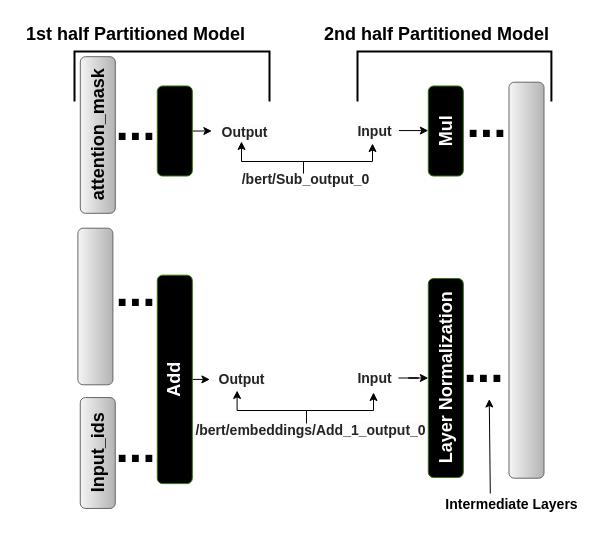
The diagram is 600 pixels wide and 536 high, and some of its shapes have lost their labels. Here are the shapes that lost their labels. From the top down, the box of each, then its label:
(156, 85, 192, 176): Sub
(508, 81, 544, 478): Logits
(77, 227, 113, 385): token_type_ids
